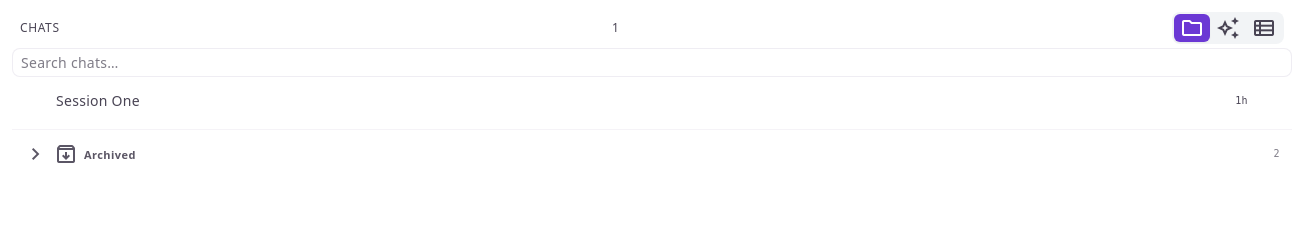
Test case: 已归档 section (卡A) › renders collapsed with a count and expands to archived rows
Expected: the text "Archived" is shown, top-left (84, 146), bottom-right (136, 162)
Click the button with test id "sidebar-archived-toggle" at (110, 154), box top-left (12, 134), bottom-right (1292, 170)
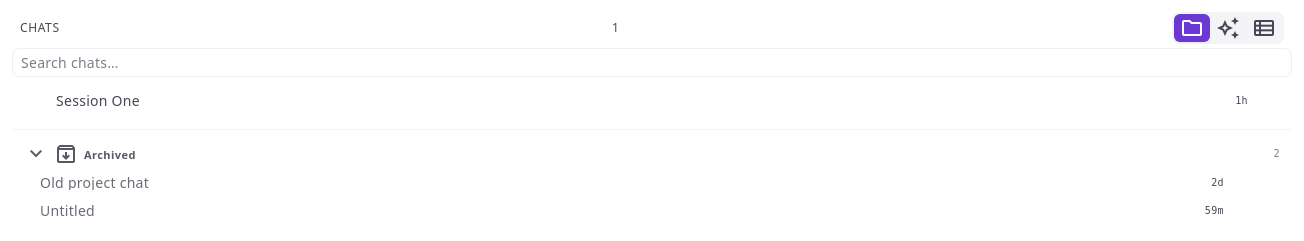
Now the button with test id "sidebar-archived-toggle" is expanded, box top-left (12, 134), bottom-right (1292, 170)
Now the list item with test id "archived-row-arch-1" is shown, box top-left (28, 170), bottom-right (1292, 196)
Now the list item with test id "archived-row-arch-2" is shown, box top-left (28, 198), bottom-right (1292, 224)
